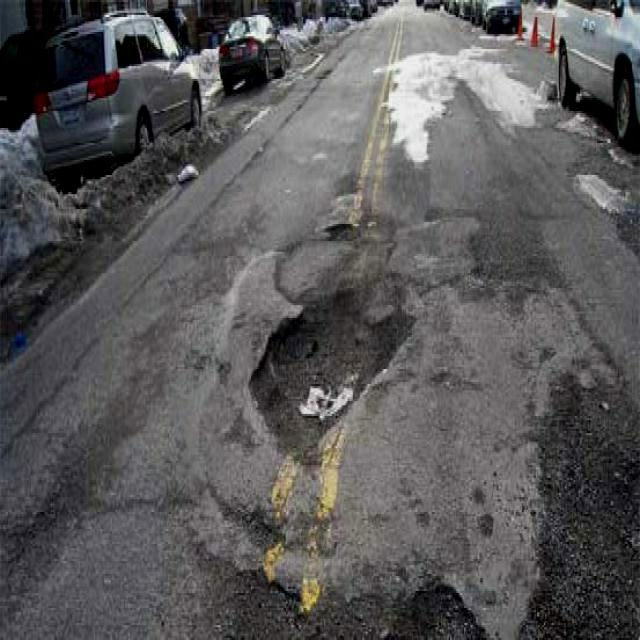Pothole: (325, 213, 353, 243)
